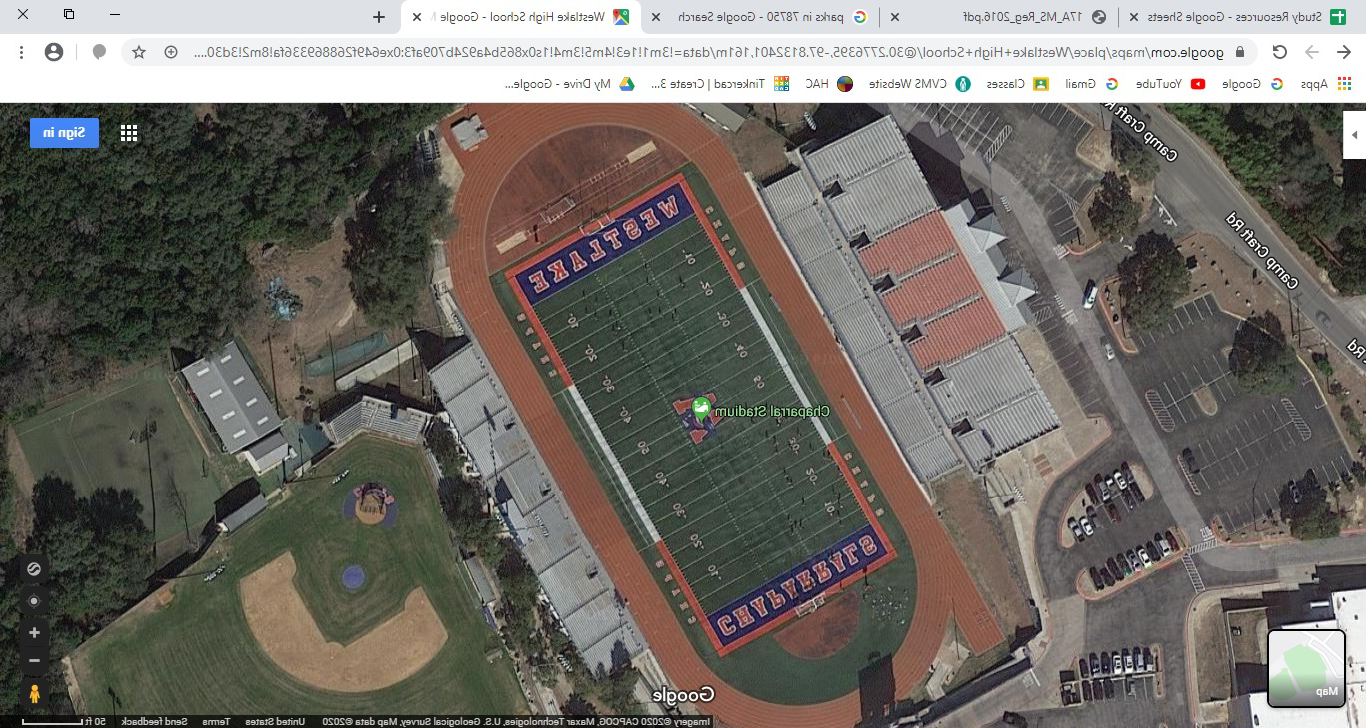baseball: (72, 454, 526, 714)
football: (554, 118, 1012, 714), (552, 116, 1010, 712)
